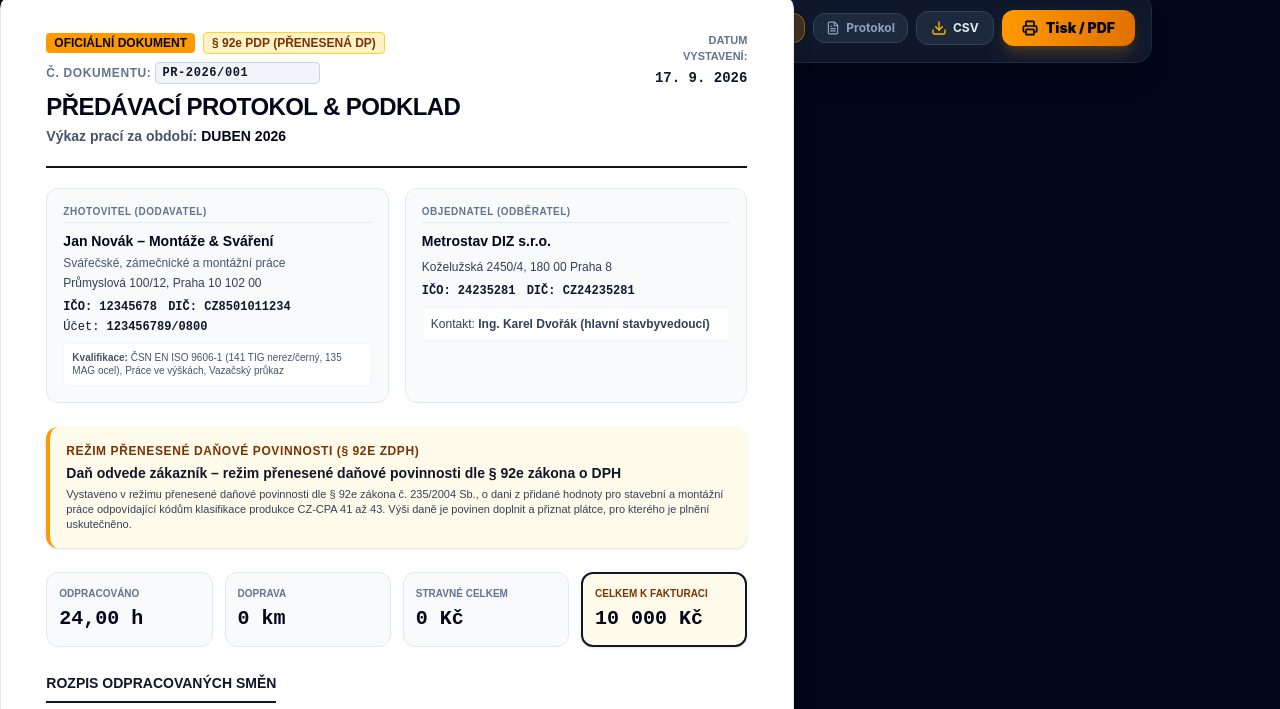
Scenario: Milestone M1 Adversarial Verification (Challenger 2) › 6. Milestone M1 Iteration 2 Challenger Stress Tests (Adversarial Verifier 2) › 6.1 InvoiceReportView with Mixed PDP Entries › one entry isPdp: true with client isPdpDefault: false -> must produce 0% VAT, PDP clause attached
The image size is (1280, 709).
Expected: the text "§ 92e PDP (PŘENESENÁ DP)" is shown, [203, 32, 385, 54]
// Switch to Invoice mode
Click the button "Protokol". click: click(861, 28)
box: [813, 13, 908, 43]
(page scrolled)
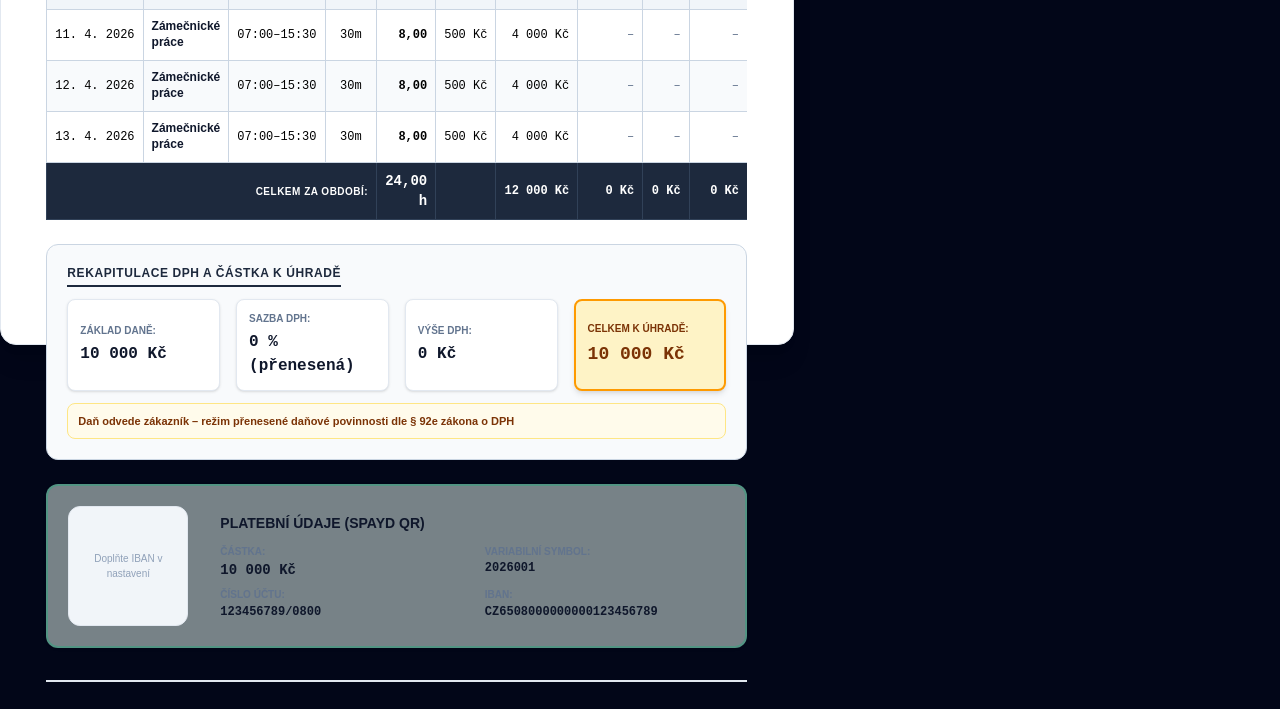
Now the text "0 % (přenesená)" is shown, box [249, 333, 355, 375]
